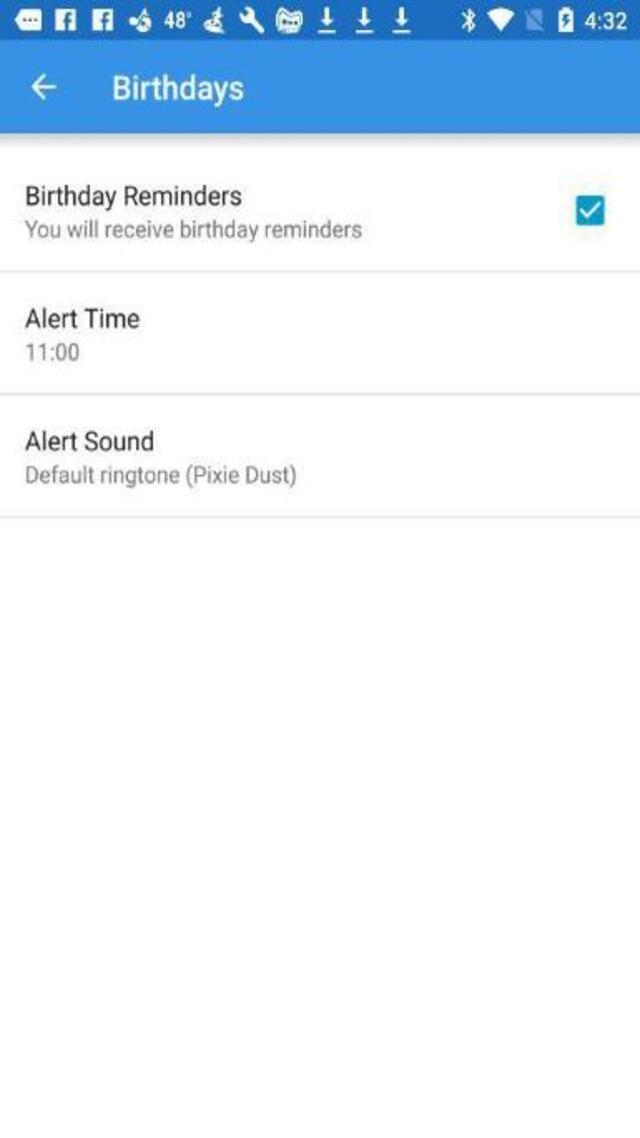CheckedTextView: (575, 195, 605, 225)
Icon: (29, 73, 56, 101)
Text: (24, 217, 362, 242), (25, 464, 294, 489), (28, 184, 242, 212), (112, 73, 244, 108), (25, 430, 155, 452), (26, 307, 140, 330), (26, 343, 80, 361)
